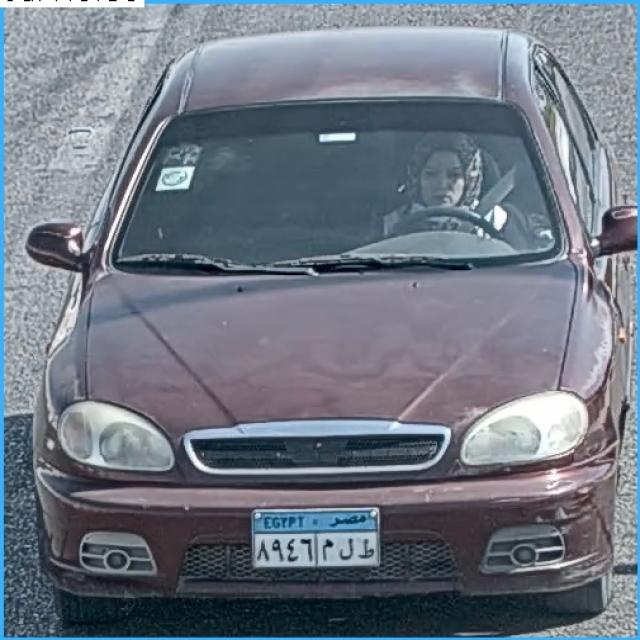windshield: (116, 105, 540, 259)
